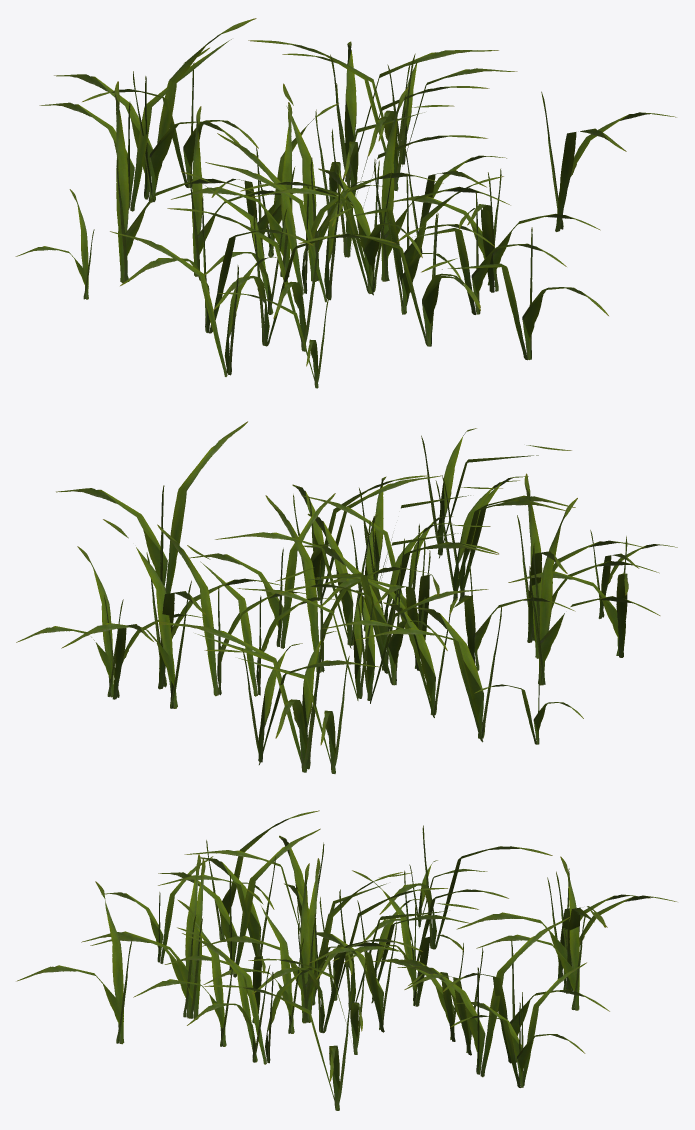
File: forest_grass.fbx
The picture shows the model from 3 angles, top to bottom: view 1: azimuth 30°, elevation 25°; view 2: azimuth 150°, elevation 25°; view 3: azimuth 270°, elevation 25°; orthographic projection. The views are drawn at different scales.
Visible parts, largest first — view 1: StaticMeshActor_UAID_D85ED3559E7B50DD01_1546630617_StaticMes; view 2: StaticMeshActor_UAID_D85ED3559E7B50DD01_1546630617_StaticMes; view 3: StaticMeshActor_UAID_D85ED3559E7B50DD01_1546630617_StaticMes.
Part boxes in pixels (box(x1,y1,x2,y2)): StaticMeshActor_UAID_D85ED3559E7B50DD01_1546630617_StaticMes: box(15, 18, 676, 388); StaticMeshActor_UAID_D85ED3559E7B50DD01_1546630617_StaticMes: box(16, 421, 677, 773); StaticMeshActor_UAID_D85ED3559E7B50DD01_1546630617_StaticMes: box(16, 810, 676, 1110).
Bounding box in the file's own units: 3.86 × 0.8592 × 4.24.
